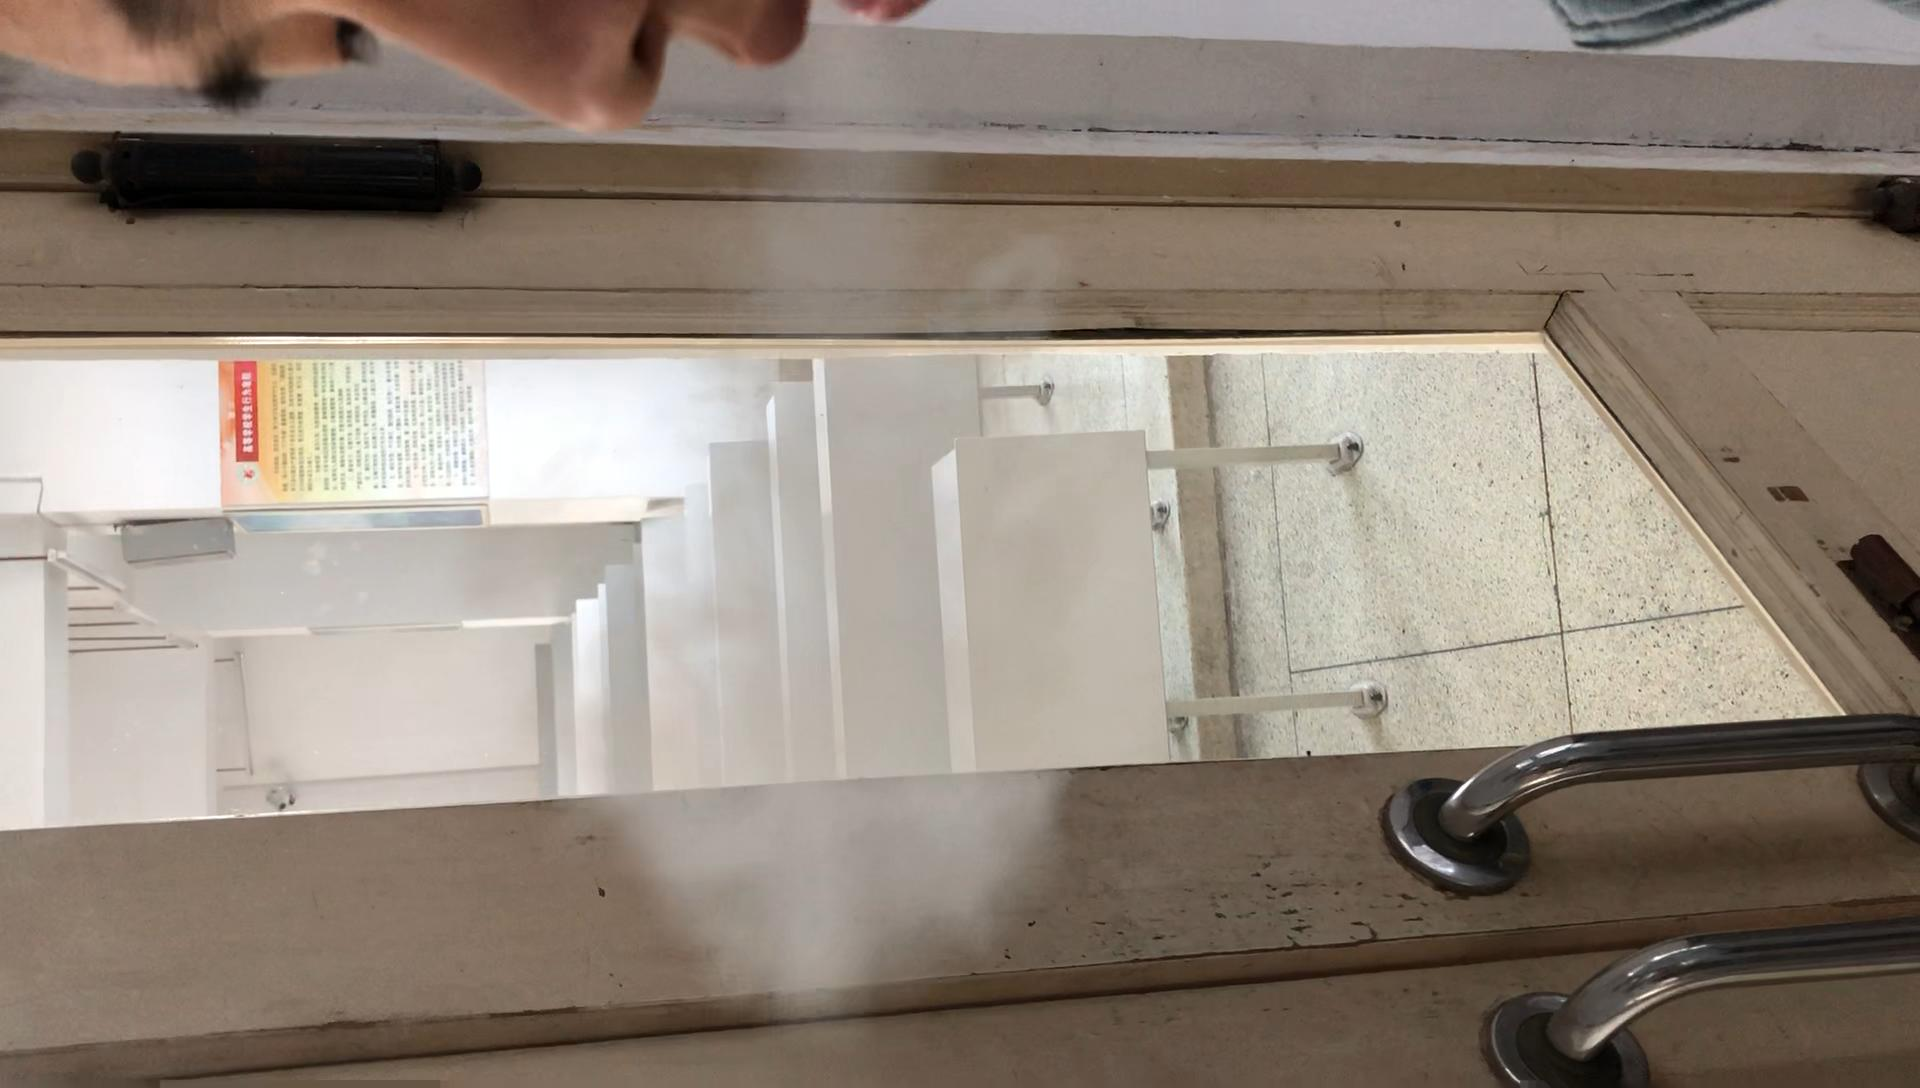yanwu: (563, 24, 1168, 1010)
